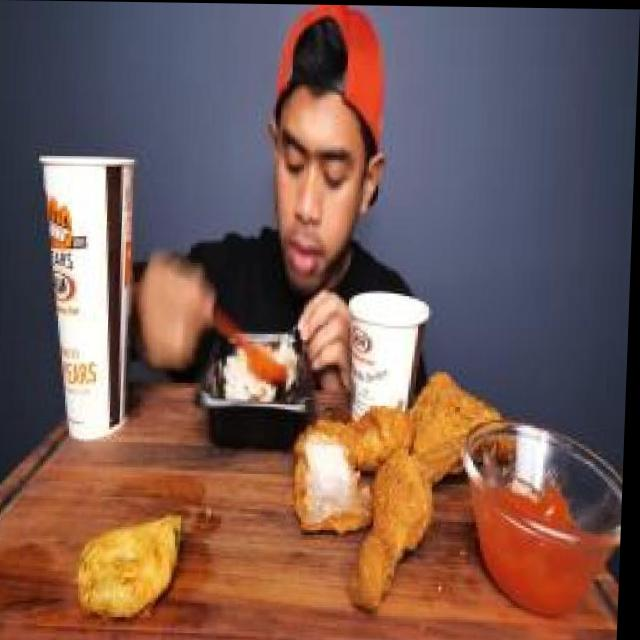AW cola: (22, 130, 146, 460)
black pepper rice bowl: (204, 301, 306, 457)
crispy corn: (348, 281, 450, 430)
fried chicken: (293, 359, 508, 599)
perkedel: (67, 491, 196, 637)
